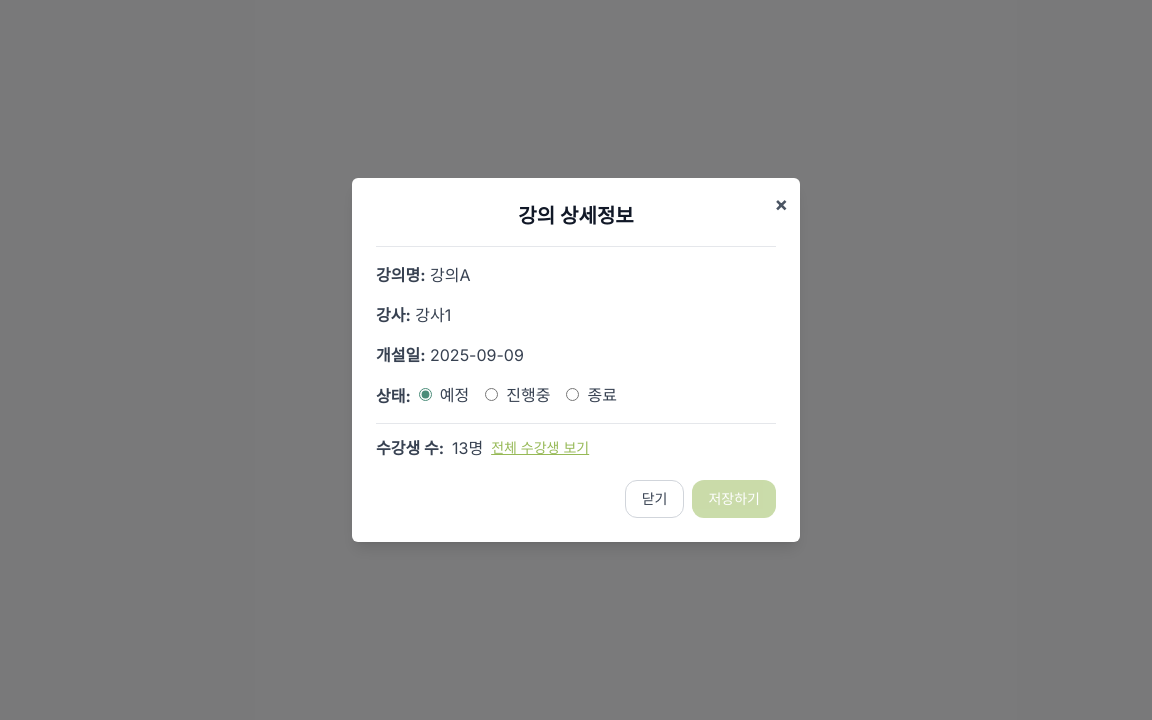
CourseInfoModal › 상태 변경 시 저장 버튼 활성화/비활성화가 반영된다
expect the button "저장하기" is disabled: met, box [692,480,776,518]
Click the radio button labelled "진행중" at (492, 395), box [485,388,498,401]
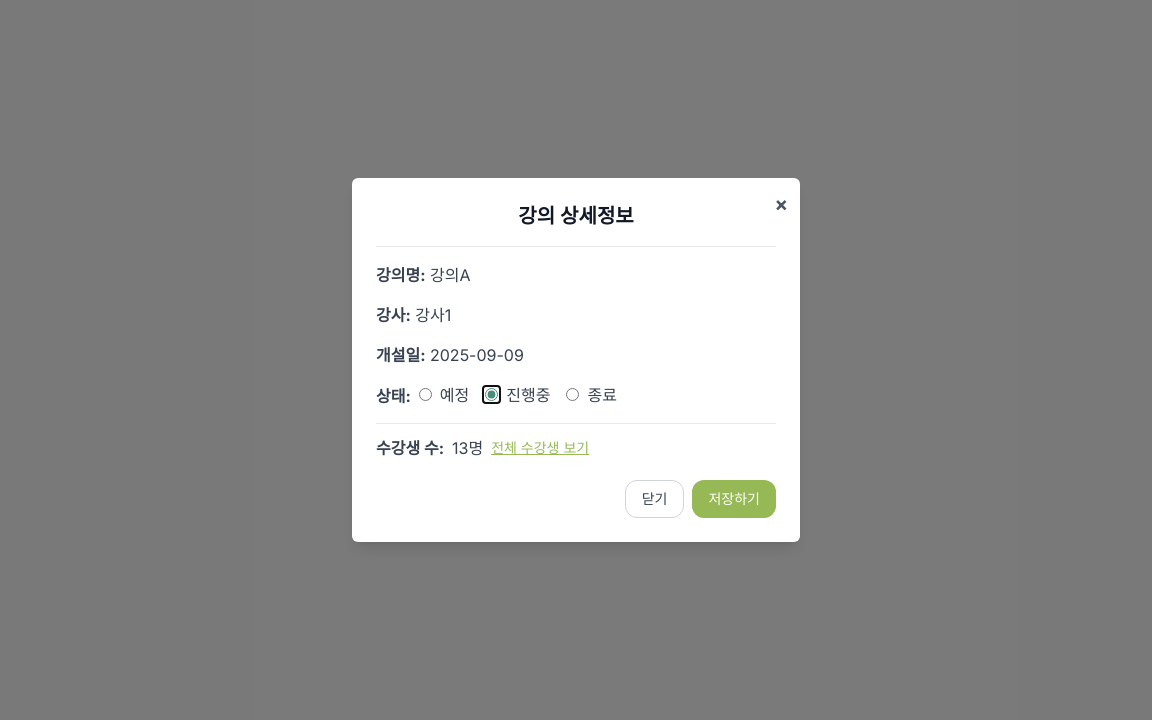
expect the button "저장하기" is enabled: met, box [692,480,776,518]
Click the radio button labelled "예정" at (425, 395), box [419,388,432,401]
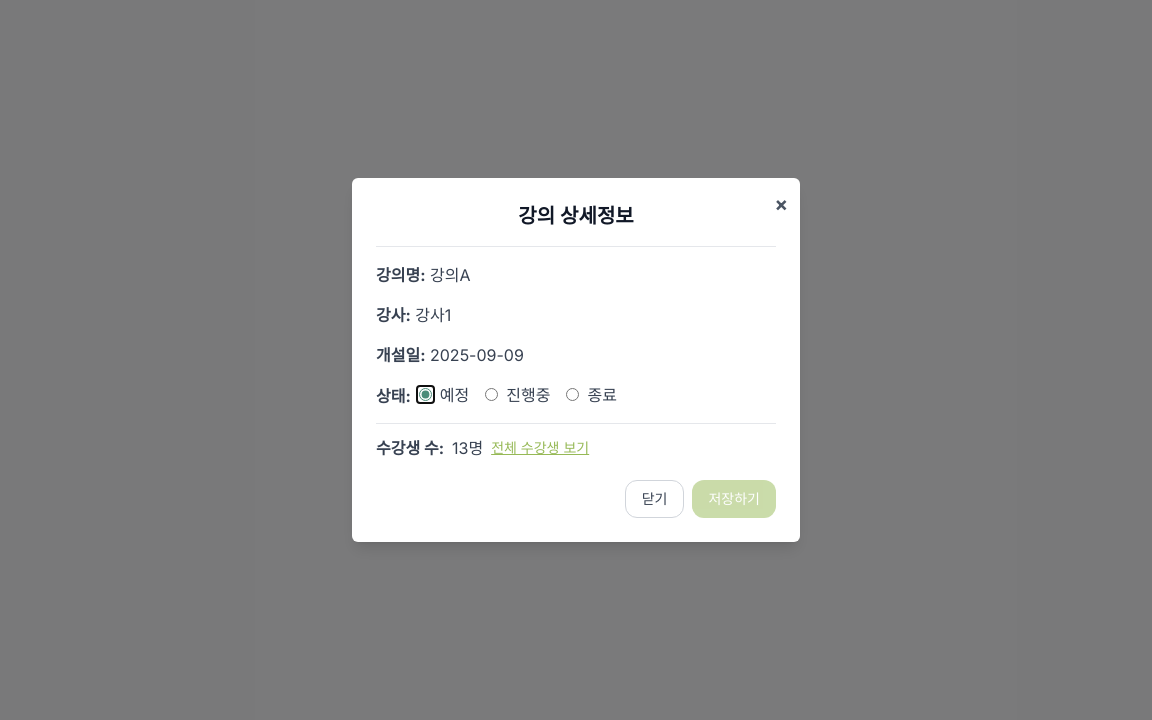
expect the button "저장하기" is disabled: met, box [692,480,776,518]
